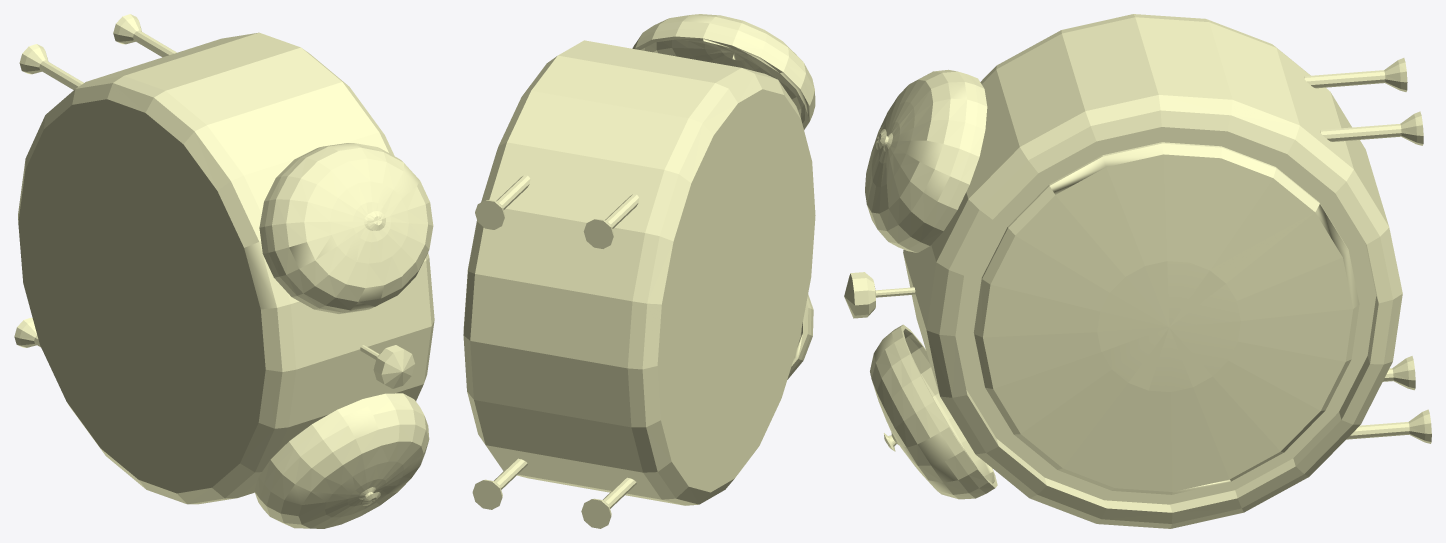
Rendered from alarmClock1_3.dae.
3 renders of one model, left to right at view 1: azimuth 30°, elevation 25°; view 2: azimuth 150°, elevation 25°; view 3: azimuth 270°, elevation 25°, orthographic. The views are drawn at different scales.
Parts seen in each view (by area): view 1: M006126_019; view 2: M006126_019; view 3: M006126_019.
Part boxes in pixels (left/top/right/bottom): M006126_019: left=14, top=14, right=434, bottom=528; M006126_019: left=463, top=14, right=815, bottom=528; M006126_019: left=844, top=14, right=1431, bottom=528.
Bounding box in the file's own units: 0.1 × 0.2041 × 0.1669.
